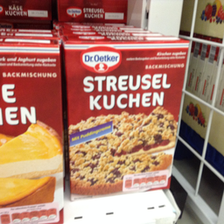cake: (62, 35, 192, 197), (1, 40, 64, 219)
